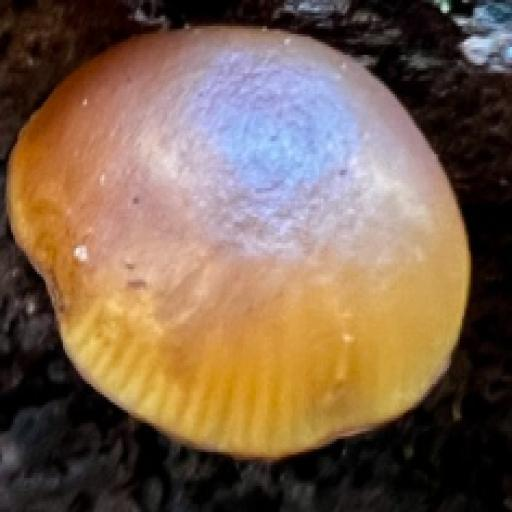mushroom: (3, 17, 482, 468)
